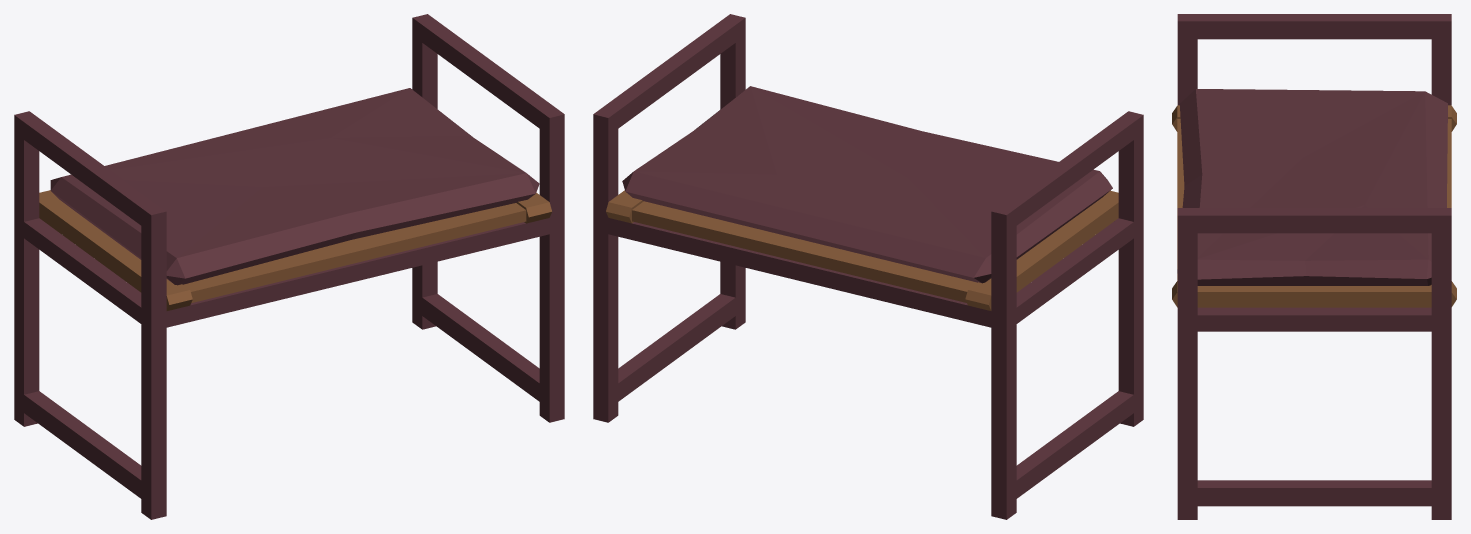
The model's file is bench-outside-modern-cusion.fbx.
3 renders of one model, left to right at view 1: azimuth 30°, elevation 25°; view 2: azimuth 150°, elevation 25°; view 3: azimuth 270°, elevation 25°, orthographic.
Visible parts, largest first — view 1: bench-outside-modern-cusion; view 2: bench-outside-modern-cusion; view 3: bench-outside-modern-cusion.
Part boxes in pixels (left/top/right/bottom): bench-outside-modern-cusion: left=14, top=14, right=564, bottom=519; bench-outside-modern-cusion: left=593, top=14, right=1143, bottom=519; bench-outside-modern-cusion: left=1172, top=14, right=1456, bottom=519.
Bounding box in the file's own units: 1.08 × 0.7604 × 0.6445.
